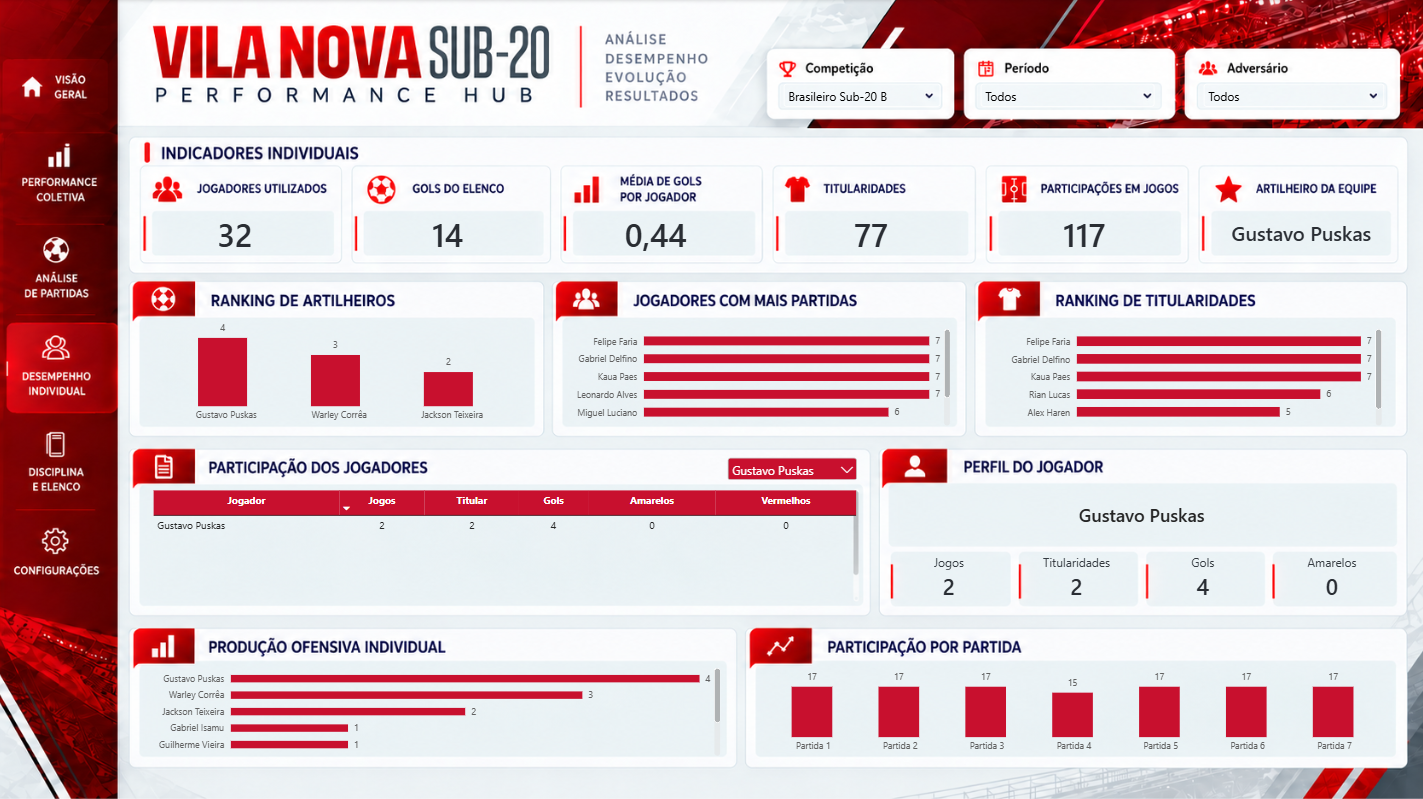

What the dashboard file says about the page in this screenshot:
{"tool":"powerbi","page":{"name":"04 - Desempenho Individual","canvas":[1920,1080],"ordinal":3},"visuals":[{"type":"cardVisual","fields":{"Data":["Medidas.Jogadores Utilizados"]},"box":[192.6,277.4,253.2,79.5],"z":0},{"type":"cardVisual","fields":{"Data":["Medidas.Gols do Elenco"]},"box":[484.8,285.5,241,60.6],"z":1000},{"type":"cardVisual","fields":{"Data":["Medidas.Média de Gols por Jogador"]},"box":[766.2,285.5,239.7,60.6],"z":2000},{"type":"cardVisual","fields":{"Data":["Medidas.Total de Titularidades"]},"box":[1053.1,285.5,245.1,60.6],"z":3000},{"type":"cardVisual","fields":{"Data":["Medidas.Participações em Jogos"]},"box":[1339.9,285.5,246.4,60.6],"z":4000},{"type":"cardVisual","fields":{"Data":["Medidas.Artilheiro da Equipe"]},"box":[1632.1,285.5,246.4,60.6],"z":5000},{"type":"slicer","fields":{"Values":["fato_partidas.competicao"]},"box":[1053.1,109.1,220.8,36.4],"z":6000},{"type":"slicer","fields":{"Values":["dim_calendario.Data"]},"box":[1318.4,109.1,243.7,45.8],"z":7000},{"type":"slicer","fields":{"Values":["dim_partidas.Adversário"]},"box":[1618.7,109.1,253.2,36.4],"z":8000},{"type":"columnChart","fields":{"Category":["dim_jogadores.Nome Curto"],"Y":["Medidas.Gols por Jogador"]},"box":[192.5,410,533.8,180],"z":9000},{"type":"barChart","fields":{"Category":["dim_jogadores.Nome Curto"],"Y":["Medidas.Jogos Disputados por Jogador"]},"box":[756.2,422.5,541.2,167.5],"z":10000},{"type":"barChart","fields":{"Category":["dim_jogadores.Nome Curto"],"Y":["Medidas.Jogos como Titular"]},"box":[1331.2,422.5,547.5,167.5],"z":11000},{"type":"tableEx","fields":{"Values":["dim_jogadores.Nome Curto","Medidas.Jogos Disputados por Jogador2","Medidas.Jogos como Titular","Medidas.Gols por Jogador","Medidas.Cartões Amarelos","Medidas.Cartões Vermelhos"]},"box":[192.5,647.5,982.5,167.5],"z":12000},{"type":"cardVisual","fields":{"Data":["Medidas.Nome do Jogador Selecionado"]},"box":[1202.6,656.9,675.2,74.5],"z":13000},{"type":"cardVisual","fields":{"Data":["Medidas.Perfil - Titularidades"]},"box":[1375,736.4,155.7,87.5],"z":14000},{"type":"cardVisual","fields":{"Data":["Medidas.Perfil - Gols"]},"box":[1540.5,736.6,164.3,87.5],"z":15000},{"type":"cardVisual","fields":{"Data":["Medidas.Perfil - Amarelos"]},"box":[1714.3,736.6,164.3,87.5],"z":16000},{"type":"cardVisual","fields":{"Data":["Medidas.Perfil - Jogos"]},"box":[1202.3,736.4,156.8,87.5],"z":17000},{"type":"clusteredBarChart","fields":{"Category":["dim_jogadores.Nome Curto"],"Y":["Medidas.Gols por Jogador"]},"box":[193,879.9,796.1,155.6],"z":18000},{"type":"clusteredColumnChart","fields":{"Category":["dim_partidas.Nome da Partida"],"Y":["Medidas.Jogadores Utilizados"]},"box":[1005.6,879.9,885.9,155.6],"z":19000},{"type":"slicer","fields":{"Values":["dim_jogadores.Nome Curto"]},"box":[977.7,612.7,184.5,33.7],"z":20000},{"type":"actionButton","box":[18.9,187.2,117.2,90.2],"z":21000},{"type":"actionButton","box":[37.7,88.9,107.7,56.6],"z":22000},{"type":"actionButton","box":[24.2,317.8,107.7,56.6],"z":23000},{"type":"actionButton","box":[28.3,569.6,103.7,76.8],"z":24000}]}

Visuals, with their boxes on the page's 1920x1080 design canvas (x1, y1, x2, y2). These are canvas units, not pixel positions in the 1423x799 screenshot, which may show the page scaled, cropped or inside an application window:
cardVisual - Medidas.Jogadores Utilizados: 193:277:446:357
cardVisual - Medidas.Gols do Elenco: 485:286:726:346
cardVisual - Medidas.Média de Gols por Jogador: 766:286:1006:346
cardVisual - Medidas.Total de Titularidades: 1053:286:1298:346
cardVisual - Medidas.Participações em Jogos: 1340:286:1586:346
cardVisual - Medidas.Artilheiro da Equipe: 1632:286:1878:346
slicer - fato_partidas.competicao: 1053:109:1274:146
slicer - dim_calendario.Data: 1318:109:1562:155
slicer - dim_partidas.Adversário: 1619:109:1872:146
columnChart - dim_jogadores.Nome Curto x Medidas.Gols por Jogador: 192:410:726:590
barChart - dim_jogadores.Nome Curto x Medidas.Jogos Disputados por Jogador: 756:422:1297:590
barChart - dim_jogadores.Nome Curto x Medidas.Jogos como Titular: 1331:422:1879:590
tableEx - dim_jogadores.Nome Curto x Medidas.Jogos Disputados por Jogador2: 192:648:1175:815
cardVisual - Medidas.Nome do Jogador Selecionado: 1203:657:1878:731
cardVisual - Medidas.Perfil - Titularidades: 1375:736:1531:824
cardVisual - Medidas.Perfil - Gols: 1540:737:1705:824
cardVisual - Medidas.Perfil - Amarelos: 1714:737:1879:824
cardVisual - Medidas.Perfil - Jogos: 1202:736:1359:824
clusteredBarChart - dim_jogadores.Nome Curto x Medidas.Gols por Jogador: 193:880:989:1036
clusteredColumnChart - dim_partidas.Nome da Partida x Medidas.Jogadores Utilizados: 1006:880:1892:1036
slicer - dim_jogadores.Nome Curto: 978:613:1162:646
actionButton: 19:187:136:277
actionButton: 38:89:145:146
actionButton: 24:318:132:374
actionButton: 28:570:132:646
